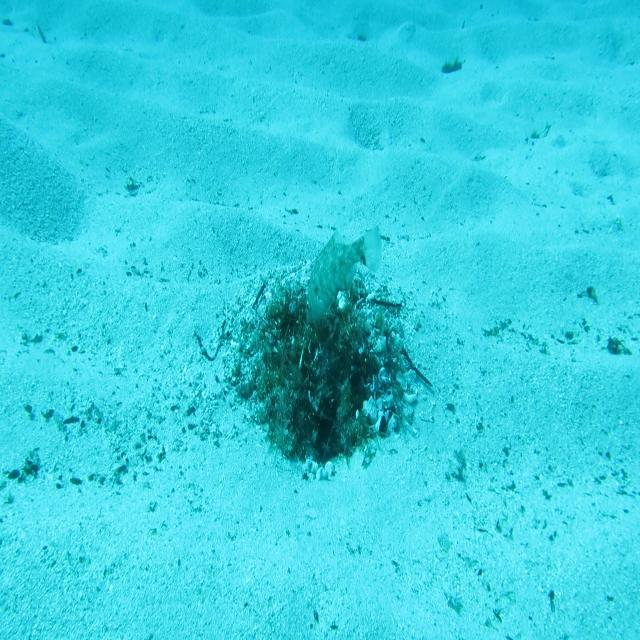INSF: (303, 219, 383, 330)
core_nest: (292, 308, 338, 340)
nest: (213, 255, 422, 486)
vegetation: (440, 56, 463, 77)
